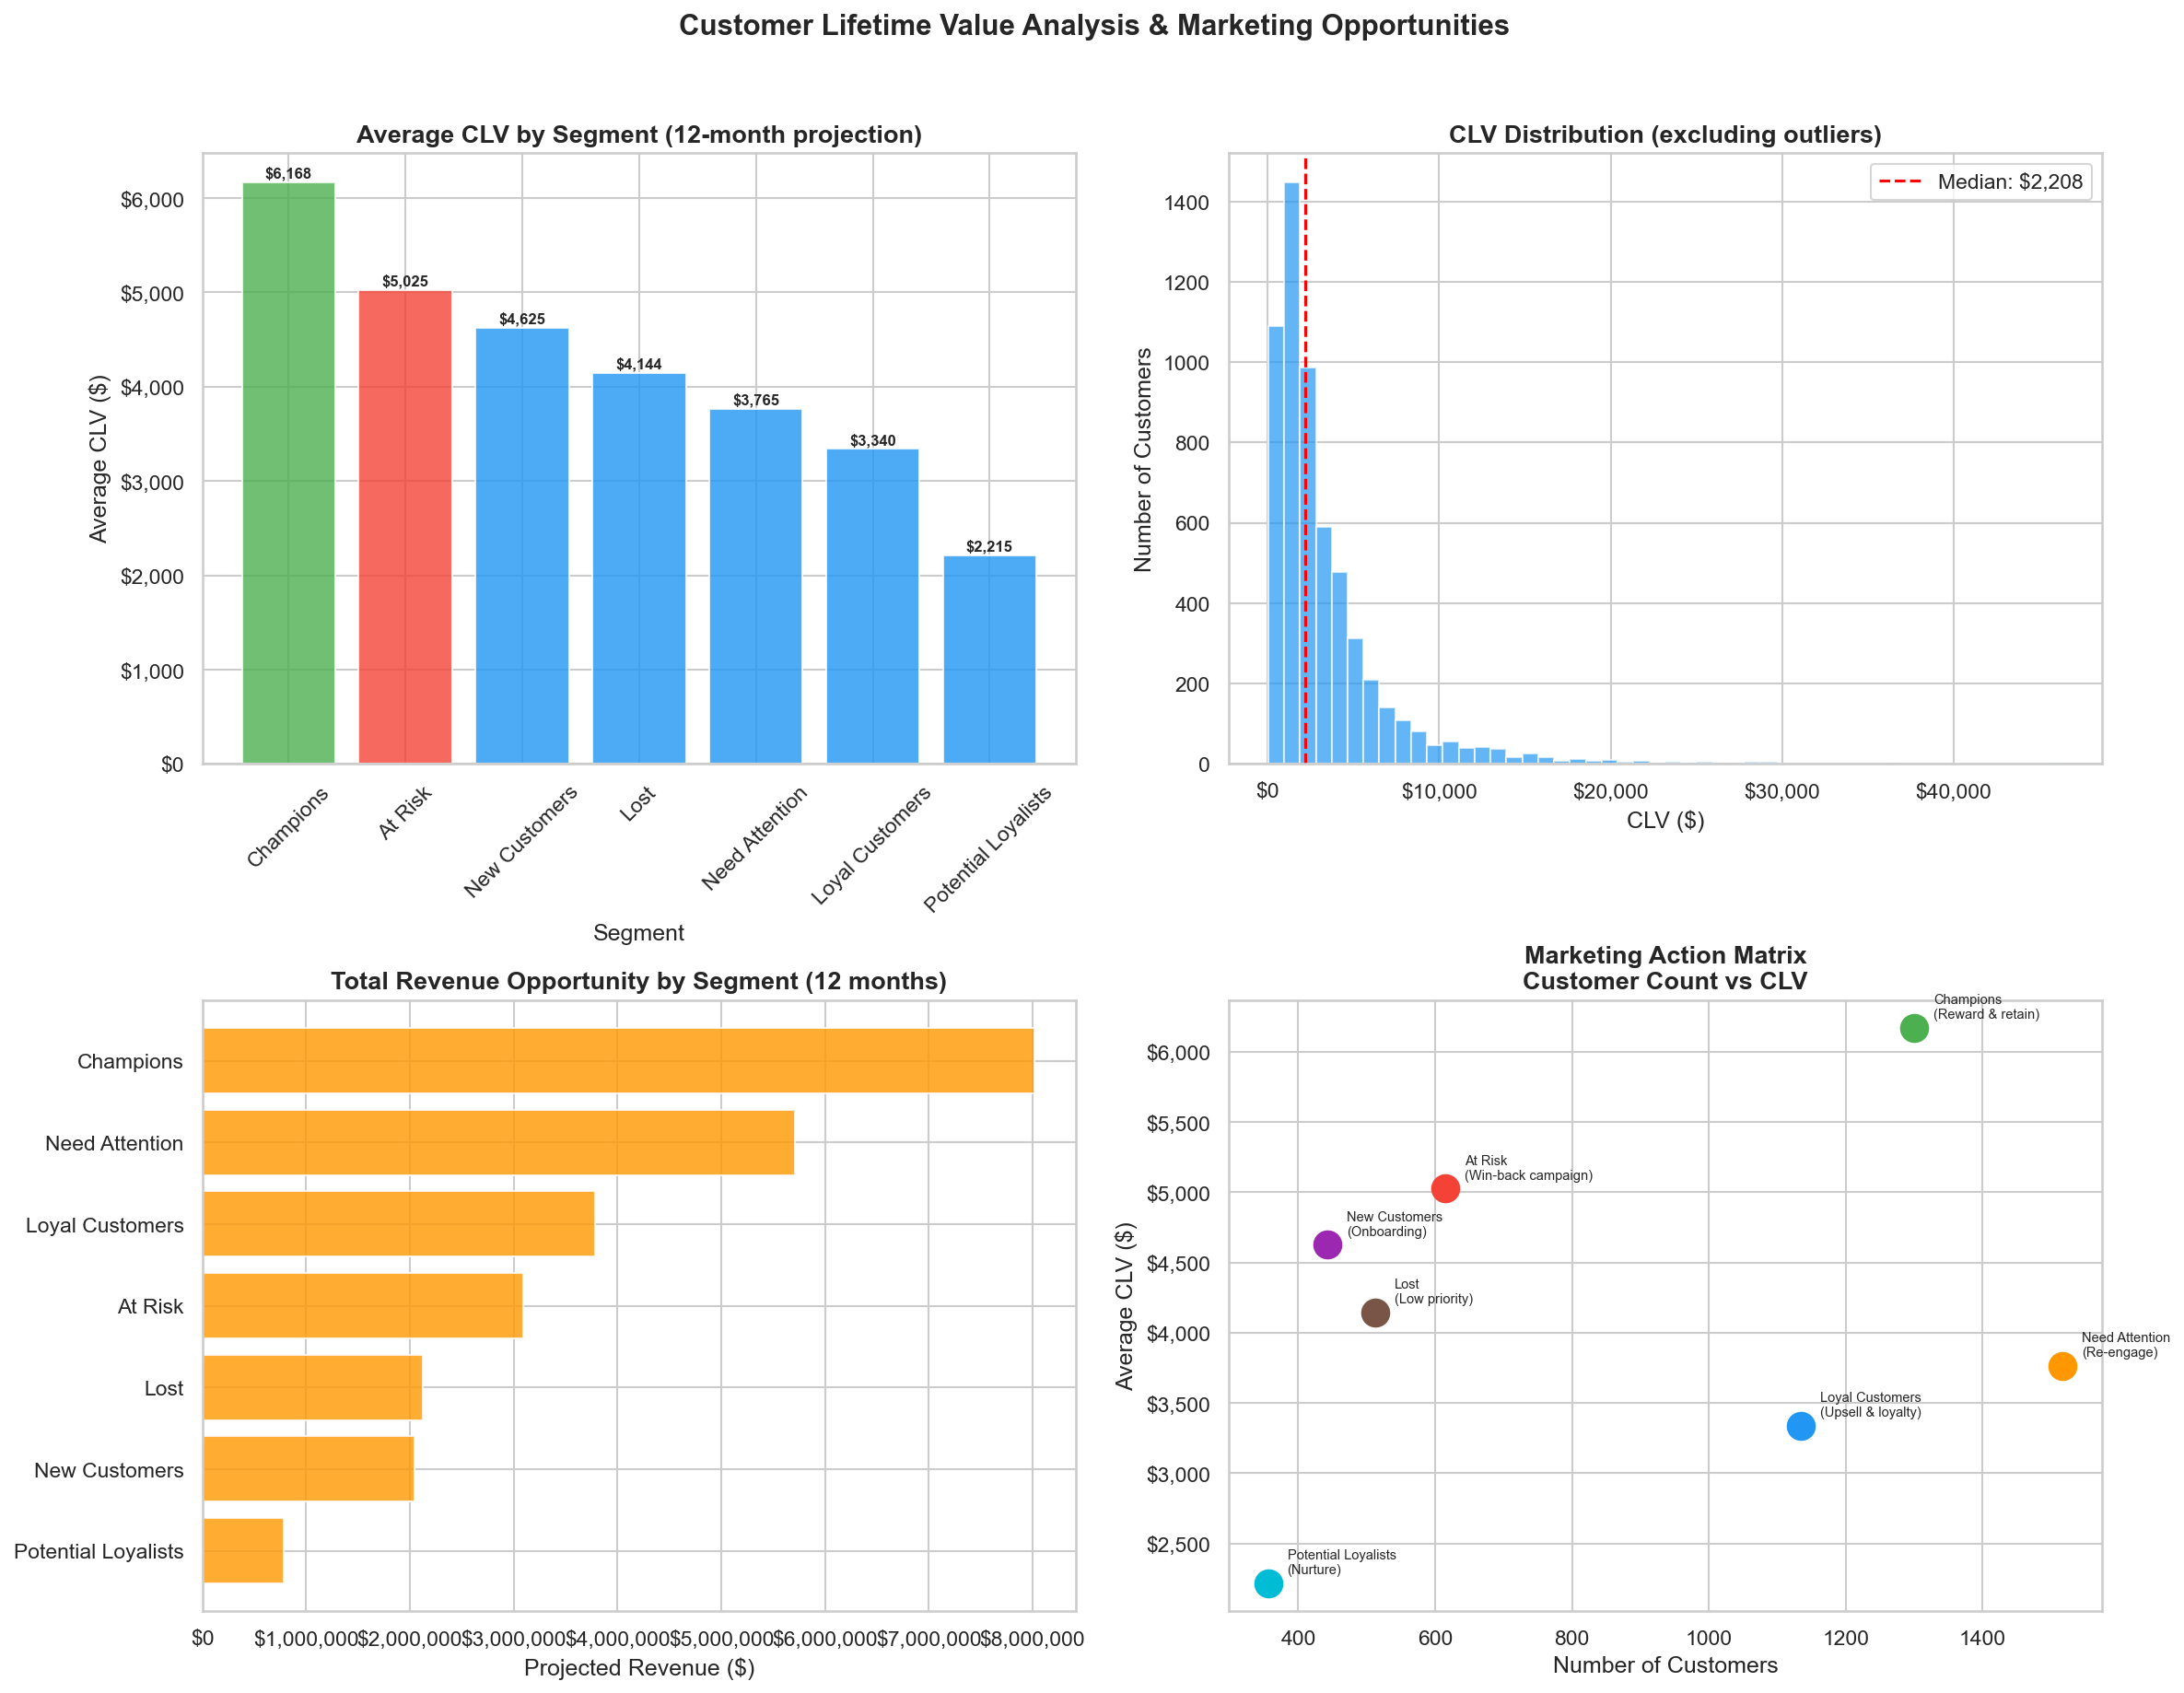

This screenshot's page, from the dashboard's own definition file:
{"tool":"powerbi","page":{"name":"Customer Segmentation","canvas":[1280,720],"ordinal":1},"visuals":[{"type":"textbox","title":"Customer Segmentation — RFM Analysis","box":[0,0,1280,60],"z":0},{"type":"card","title":"Retention Rate M1","fields":{"Values":["rfm_segments.Retention Rate M1"]},"box":[508.4,77.3,140,120],"z":0,"group":"g2"},{"type":"card","title":"Champions Revenue %","fields":{"Values":["rfm_segments.Champions Revenue %"]},"box":[20,77,140,120],"z":1000},{"type":"card","title":"At Risk Customers","fields":{"Values":["rfm_segments.At Risk Count"]},"box":[181.5,76.9,140,120],"z":2000},{"type":"card","title":"Avg CLV","fields":{"Values":["rfm_segments.Avg CLV Segment"]},"box":[343.8,76.9,140,120],"z":3000},{"type":"group","id":"g1","title":"Grupo 1","box":[508.4,77.3,140,120],"z":4000},{"type":"clusteredBarChart","title":"Customers by Segment","fields":{"Y":["transactions.Total Clientes"],"Category":["rfm_segments.segment"]},"box":[20,212.7,628.2,234.5],"z":5000},{"type":"clusteredBarChart","title":"Revenue by Segment","fields":{"Category":["rfm_segments.segment"],"Y":["transactions.Revenue Total"]},"box":[20,463.6,628.2,240],"z":6000},{"type":"clusteredBarChart","title":"Avg CLV by Segment (12M Projection)","fields":{"Category":["rfm_segments.segment"],"Y":["rfm_segments.Avg CLV Segment"]},"box":[661.8,463.6,601.8,240],"z":7000},{"type":"scatterChart","title":"Marketing Action Matrix","fields":{"Category":["rfm_segments.segment"],"Series":["rfm_segments.segment"],"Size":["transactions.Revenue Total"],"X":["transactions.Total Clientes"],"Y":["rfm_segments.Avg CLV Segment"]},"box":[661.8,77.3,601.8,370],"z":8000},{"type":"group","id":"g2","title":"Grupo 2","box":[508.4,77.3,140,120],"z":8001,"group":"g1"},{"type":"shape","box":[483.6,77.3,57.3,118.2],"z":11500},{"type":"slicer","fields":{"Values":["transactions.invoice_date"]},"box":[1039,10,223,40],"z":11501}]}

Visuals, with their boxes on the page's 1280x720 design canvas (x1, y1, x2, y2). These are canvas units, not pixel positions in the 2184x1693 screenshot, which may show the page scaled, cropped or inside an application window:
"Customer Segmentation — RFM Analysis" textbox: <bbox>0, 0, 1280, 60</bbox>
"Retention Rate M1" card: <bbox>508, 77, 648, 197</bbox>
"Champions Revenue %" card: <bbox>20, 77, 160, 197</bbox>
"At Risk Customers" card: <bbox>182, 77, 322, 197</bbox>
"Avg CLV" card: <bbox>344, 77, 484, 197</bbox>
"Grupo 1" group: <bbox>508, 77, 648, 197</bbox>
"Customers by Segment" clusteredBarChart: <bbox>20, 213, 648, 447</bbox>
"Revenue by Segment" clusteredBarChart: <bbox>20, 464, 648, 704</bbox>
"Avg CLV by Segment (12M Projection)" clusteredBarChart: <bbox>662, 464, 1264, 704</bbox>
"Marketing Action Matrix" scatterChart: <bbox>662, 77, 1264, 447</bbox>
"Grupo 2" group: <bbox>508, 77, 648, 197</bbox>
shape: <bbox>484, 77, 541, 196</bbox>
slicer - transactions.invoice_date: <bbox>1039, 10, 1262, 50</bbox>
